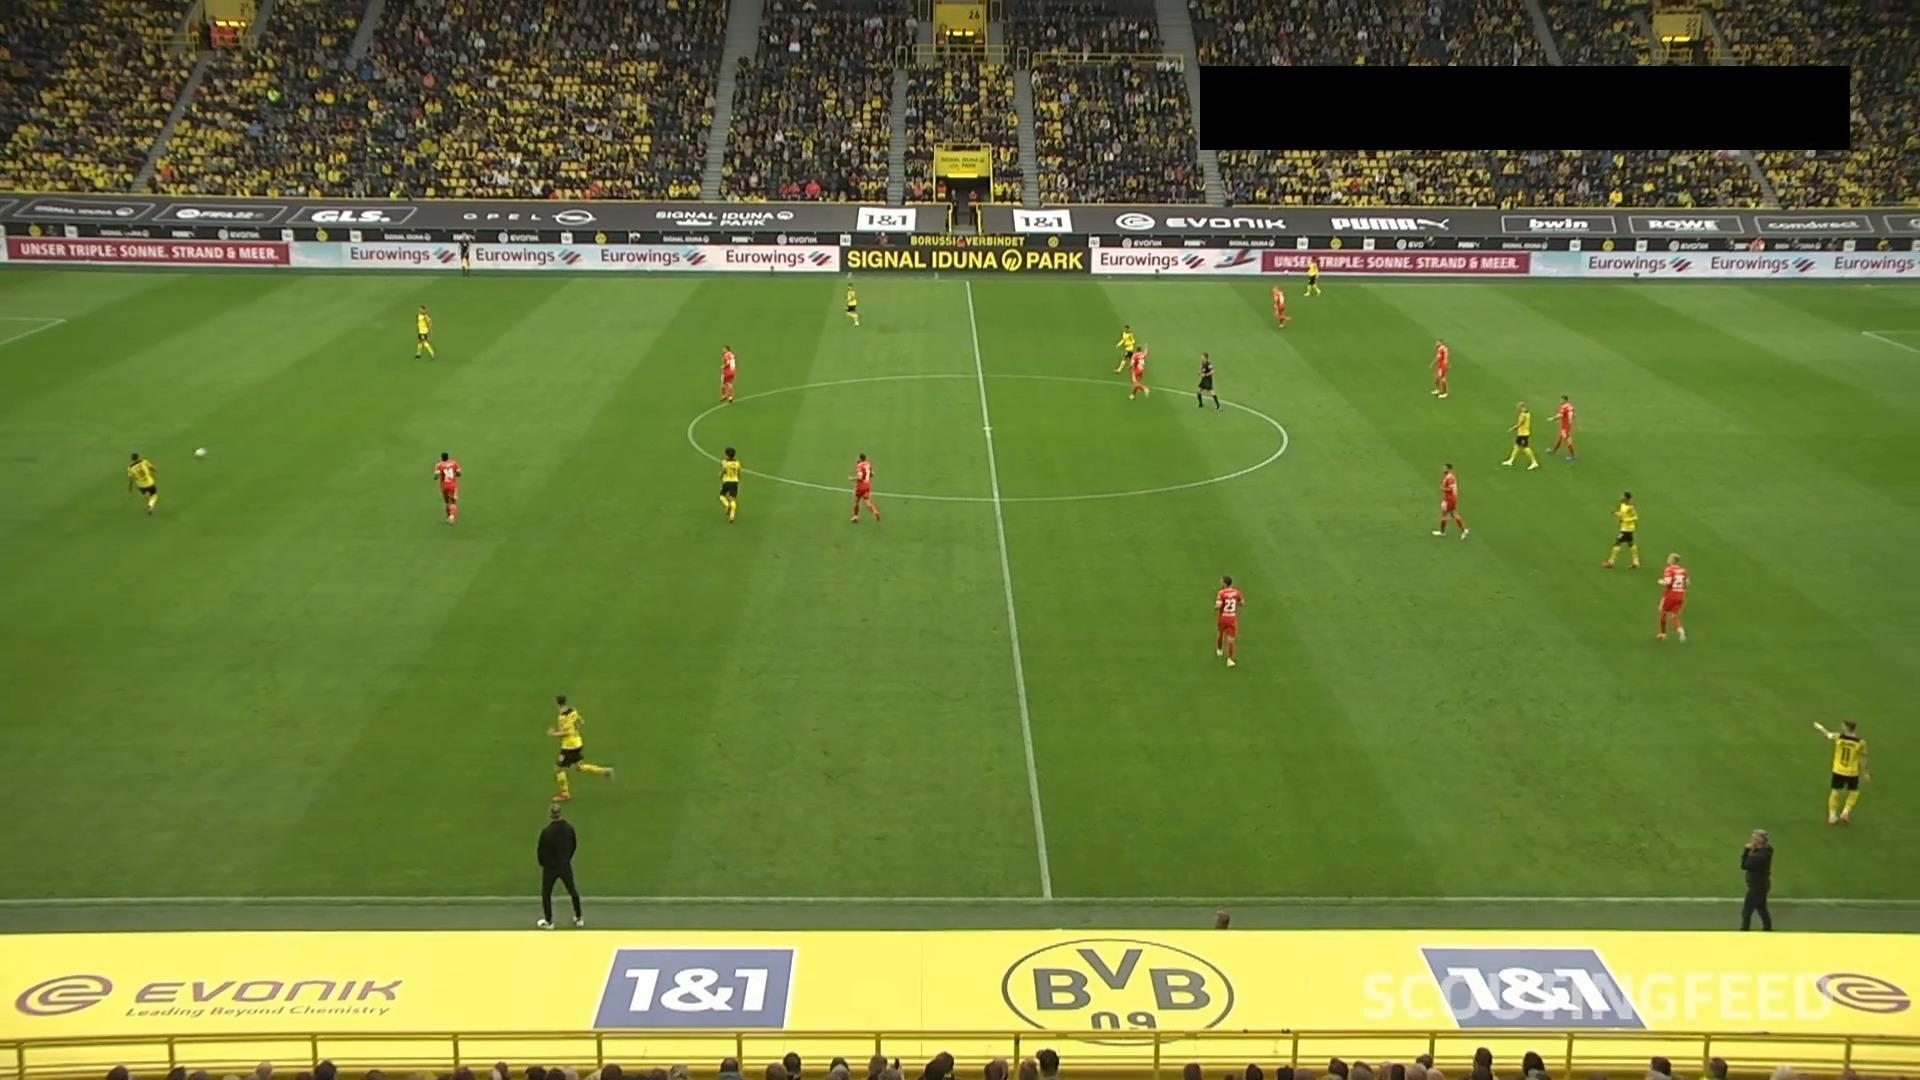ball: (191, 446, 208, 460)
